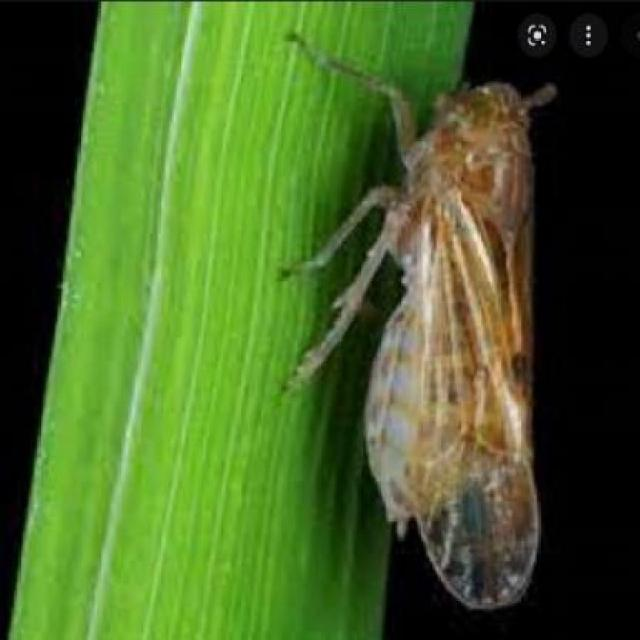brown-planthopper: (368, 82, 538, 593)
